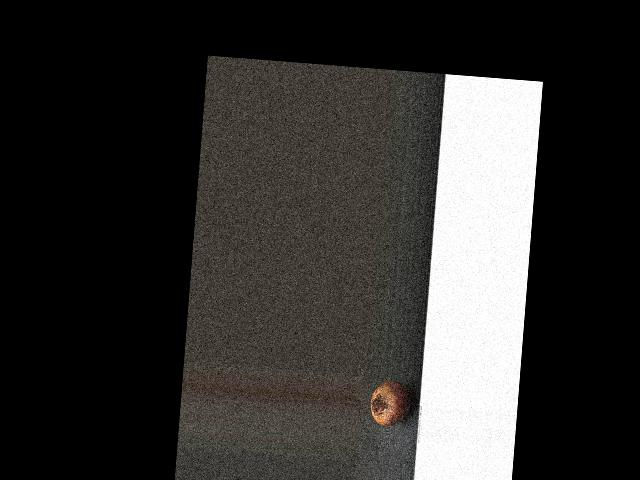beet: (369, 378, 412, 427)
